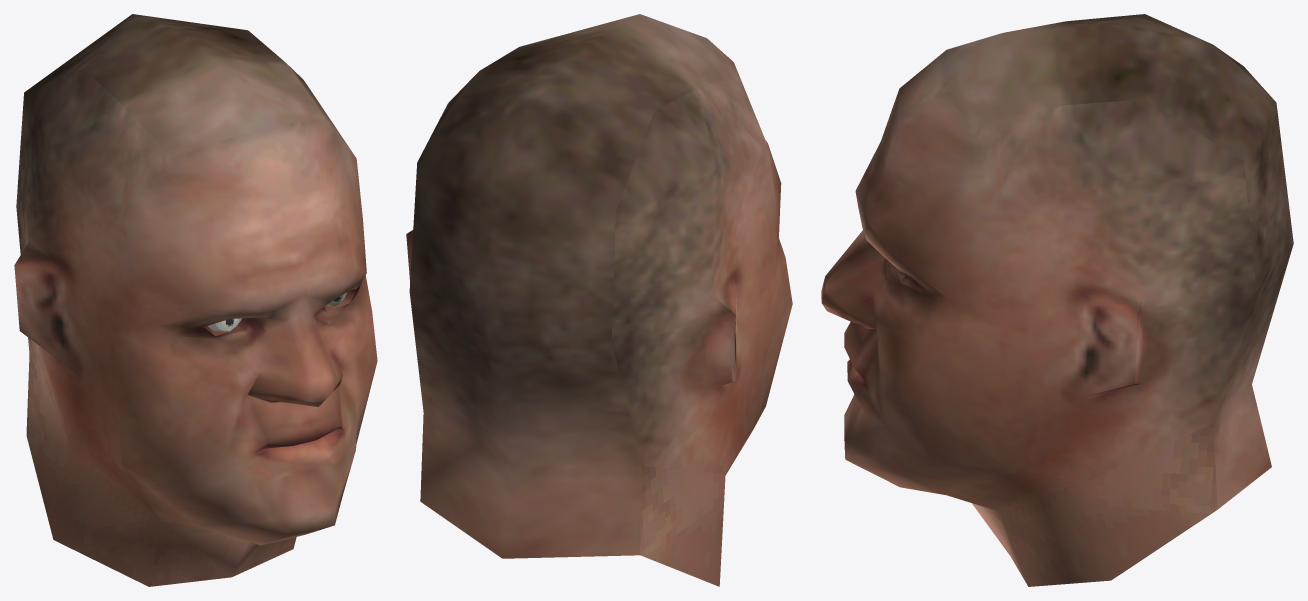
File: Kane_H.obj
The picture shows the model from 3 angles, left to right: view 1: azimuth 30°, elevation 25°; view 2: azimuth 150°, elevation 25°; view 3: azimuth 270°, elevation 25°; orthographic projection. The views are drawn at different scales.
Visible parts, largest first — view 1: Kane_H.001; view 2: Kane_H.001; view 3: Kane_H.001.
Boxes of the visible parts, bbox=[...] form: Kane_H.001: bbox=[14, 14, 377, 586]; Kane_H.001: bbox=[406, 14, 792, 586]; Kane_H.001: bbox=[821, 14, 1293, 586].
Size of the model in its own units: 1.94 by 3.05 by 2.46.
Materials: 6 (6 with a texture image).
